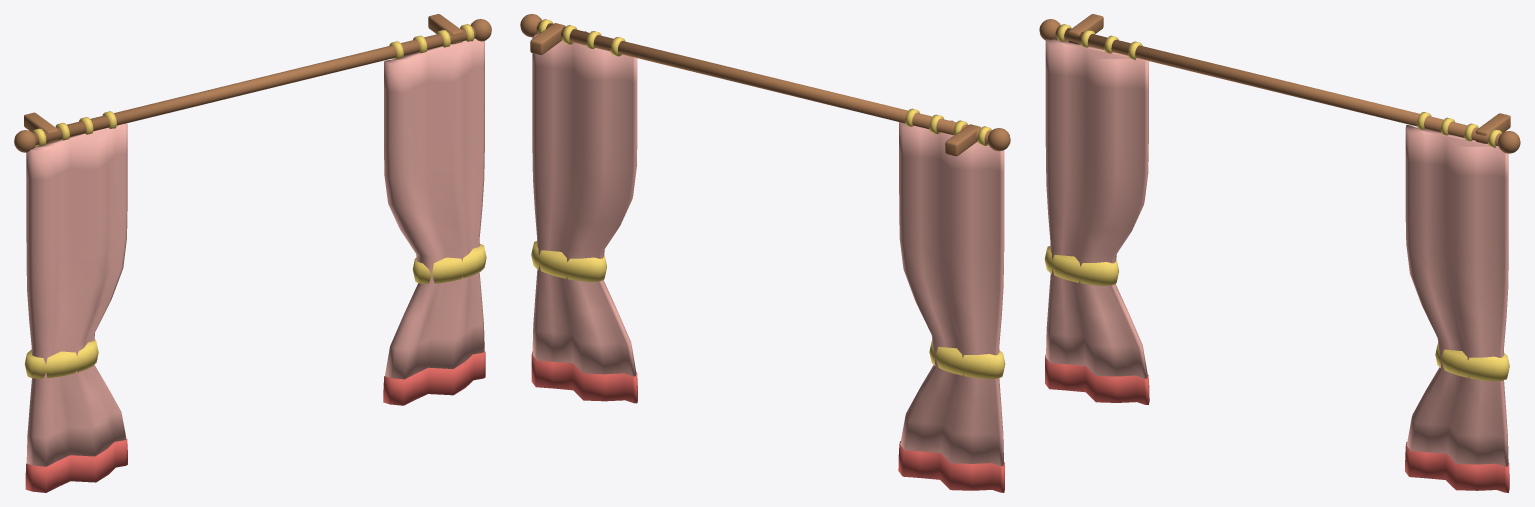
Rendered from window-curtains.glb.
3 renders of one model, left to right at view 1: azimuth 30°, elevation 25°; view 2: azimuth 150°, elevation 25°; view 3: azimuth 330°, elevation 25°, orthographic. The views are drawn at different scales.
Visible parts, largest first — view 1: ShellWindowCurtains_Panels, ShellWindowCurtains_Rod, ShellWindowCurtains_Hem, ShellWindowCurtains_Tiebacks; view 2: ShellWindowCurtains_Panels, ShellWindowCurtains_Rod, ShellWindowCurtains_Hem, ShellWindowCurtains_Tiebacks; view 3: ShellWindowCurtains_Panels, ShellWindowCurtains_Rod, ShellWindowCurtains_Hem, ShellWindowCurtains_Tiebacks.
Boxes of the visible parts, x1,y1,x2,y2 form: ShellWindowCurtains_Panels: (26,38,484,466); ShellWindowCurtains_Rod: (14,14,491,152); ShellWindowCurtains_Hem: (25,351,485,492); ShellWindowCurtains_Tiebacks: (24,24,486,378); ShellWindowCurtains_Panels: (532,31,1004,465); ShellWindowCurtains_Rod: (520,14,1010,156); ShellWindowCurtains_Hem: (531,351,1004,492); ShellWindowCurtains_Tiebacks: (531,19,1005,378); ShellWindowCurtains_Panels: (1045,39,1508,466); ShellWindowCurtains_Rod: (1039,14,1520,153); ShellWindowCurtains_Hem: (1045,354,1509,492); ShellWindowCurtains_Tiebacks: (1044,24,1509,381).
Bounding box in the file's own units: 2.02 × 1.45 × 0.2556.
